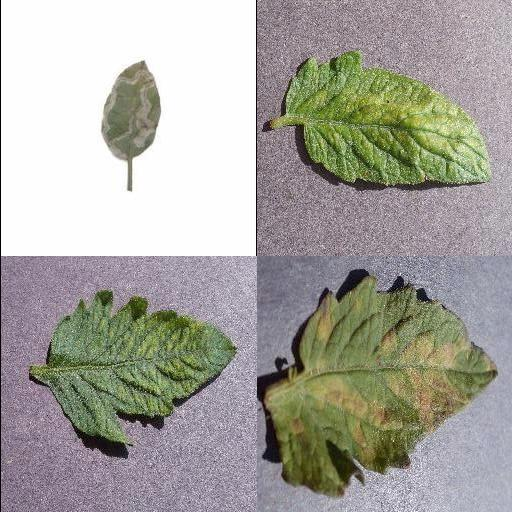Leaf Miner: (103, 60, 161, 161)
Leaf Mold: (263, 276, 497, 498)
Mosaic Virus: (44, 287, 236, 447)
Spider Mites: (282, 50, 492, 186)
